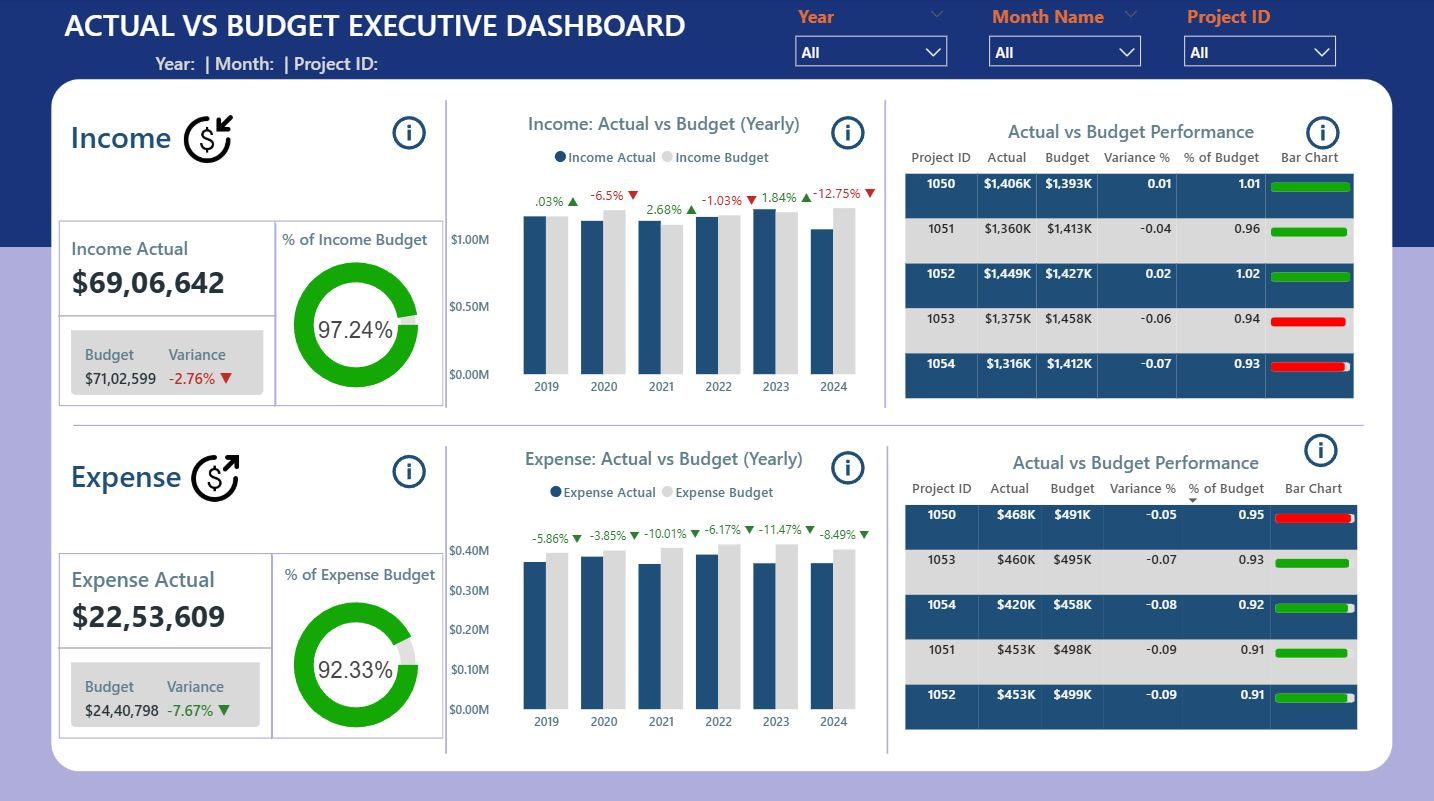

Layout of this report page (visuals, bound fields, positions):
{"tool":"powerbi","page":{"name":"Main","canvas":[1280,720],"ordinal":0},"visuals":[{"type":"pivotTable","title":"Actual vs Budget Performance","fields":{"Rows":["Data.Project_ID"],"Values":["Key Measures.Income Actual","Key Measures.Income Budget","Key Measures.Income Variance %","Key Measures.% of Income Budget","Key Measures.Income Bar Chart"]},"box":[801.1,107.4,411.4,263],"z":0},{"type":"slicer","fields":{"Values":["Data.Year"]},"box":[697.4,0,155.7,72.4],"z":1},{"type":"slicer","fields":{"Values":["Data.Month Name"]},"box":[870.6,0,155.7,72.4],"z":2},{"type":"slicer","fields":{"Values":["Data.Project_ID"]},"box":[1043.7,0,155.7,72.4],"z":3},{"type":"clusteredColumnChart","title":"Income: Actual vs Budget (Yearly)","fields":{"Y":["Key Measures.Income Actual","Key Measures.Income Budget"],"Category":["Data.Year"]},"box":[394.6,100.2,394.6,263],"z":4},{"type":"clusteredColumnChart","title":"Expense: Actual vs Budget (Yearly)","fields":{"Y":["Key Measures.Expense Actual","Key Measures.Expense Budget"],"Category":["Data.Year"]},"box":[394.6,398.2,394.6,263],"z":5},{"type":"cardVisual","fields":{"Data":["Key Measures.Income Actual"]},"box":[35,181,229.3,201.5],"z":6},{"type":"cardVisual","fields":{"Data":["Key Measures.% of Income Budget"]},"box":[100.2,191.9,300.5,199.1],"z":7},{"type":"textbox","box":[219.6,200.3,193.1,31.4],"z":8},{"type":"shape","box":[51.9,197.9,342.7,165.3],"z":9},{"type":"cardVisual","fields":{"Data":["Key Measures.Expense Actual"]},"box":[35,476.6,226.8,202.7],"z":10},{"type":"cardVisual","fields":{"Data":["Key Measures.% of Expense Budget"]},"box":[100.2,494.7,300.5,199.1],"z":11},{"type":"textbox","box":[223.2,498.3,193.1,31.4],"z":12},{"type":"shape","box":[51.9,494.7,342.7,165.3],"z":13},{"type":"pivotTable","title":"Actual vs Budget Performance","fields":{"Rows":["Data.Project_ID"],"Values":["Key Measures.Expense Actual","Key Measures.Expense Budget","Key Measures.Expense Variance %","Key Measures.% of Expense Budget","Key Measures.Expense Bar Chart"]},"box":[801.2,401.8,419.9,259.4],"z":14},{"type":"textbox","box":[57.9,100.2,220.8,51.9],"z":15},{"type":"textbox","box":[57.9,401.8,193.1,51.9],"z":16},{"type":"image","box":[148.4,100.1,72.4,51.9],"z":17},{"type":"image","box":[154.4,401.7,72.4,51.9],"z":18},{"type":"textbox","box":[51.9,0,581.6,51.9],"z":19},{"type":"card","fields":{"Values":["Key Measures.Dynamic Header"]},"box":[51.9,45.8,375.2,26.5],"z":20},{"type":"actionButton","box":[342.6,100.1,42.2,39.8],"z":21},{"type":"actionButton","box":[342.6,401.7,42.2,39.8],"z":22},{"type":"actionButton","box":[733.5,100.1,42.2,39.8],"z":23},{"type":"actionButton","box":[733.5,398.1,42.2,39.8],"z":24},{"type":"actionButton","box":[1157,100.1,42.2,39.8],"z":25},{"type":"actionButton","box":[1153.4,382.4,45.8,39.8],"z":26}]}

Visuals, with their boxes in screenshot pixels (x1, y1, x2, y2), scaled from the page's 1280x720 canvas onto the 1434x801 screenshot:
"Actual vs Budget Performance" pivotTable: <bbox>897, 119, 1358, 412</bbox>
slicer - Data.Year: <bbox>781, 0, 956, 81</bbox>
slicer - Data.Month Name: <bbox>975, 0, 1150, 81</bbox>
slicer - Data.Project_ID: <bbox>1169, 0, 1344, 81</bbox>
"Income: Actual vs Budget (Yearly)" clusteredColumnChart: <bbox>442, 111, 884, 404</bbox>
"Expense: Actual vs Budget (Yearly)" clusteredColumnChart: <bbox>442, 443, 884, 736</bbox>
cardVisual - Key Measures.Income Actual: <bbox>39, 201, 296, 426</bbox>
cardVisual - Key Measures.% of Income Budget: <bbox>112, 213, 449, 435</bbox>
textbox: <bbox>246, 223, 462, 258</bbox>
shape: <bbox>58, 220, 442, 404</bbox>
cardVisual - Key Measures.Expense Actual: <bbox>39, 530, 293, 756</bbox>
cardVisual - Key Measures.% of Expense Budget: <bbox>112, 550, 449, 772</bbox>
textbox: <bbox>250, 554, 466, 589</bbox>
shape: <bbox>58, 550, 442, 734</bbox>
"Actual vs Budget Performance" pivotTable: <bbox>898, 447, 1368, 736</bbox>
textbox: <bbox>65, 111, 312, 169</bbox>
textbox: <bbox>65, 447, 281, 505</bbox>
image: <bbox>166, 111, 247, 169</bbox>
image: <bbox>173, 447, 254, 505</bbox>
textbox: <bbox>58, 0, 710, 58</bbox>
card - Key Measures.Dynamic Header: <bbox>58, 51, 478, 80</bbox>
actionButton: <bbox>384, 111, 431, 156</bbox>
actionButton: <bbox>384, 447, 431, 491</bbox>
actionButton: <bbox>822, 111, 869, 156</bbox>
actionButton: <bbox>822, 443, 869, 487</bbox>
actionButton: <bbox>1296, 111, 1343, 156</bbox>
actionButton: <bbox>1292, 425, 1343, 470</bbox>
